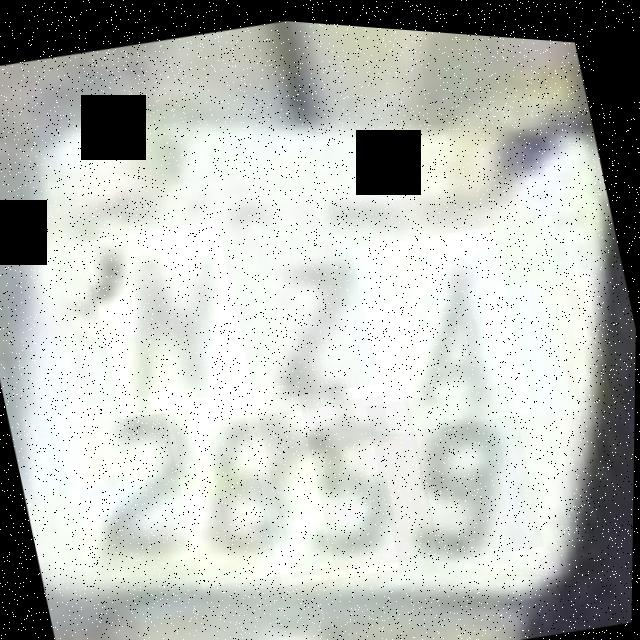2: (50, 376, 235, 591)
3: (242, 365, 442, 591)
5: (257, 376, 444, 582)
8: (161, 370, 338, 591)
9: (364, 367, 547, 570)
A: (349, 210, 535, 436)
N: (82, 209, 257, 425)
Z: (218, 217, 390, 418)
